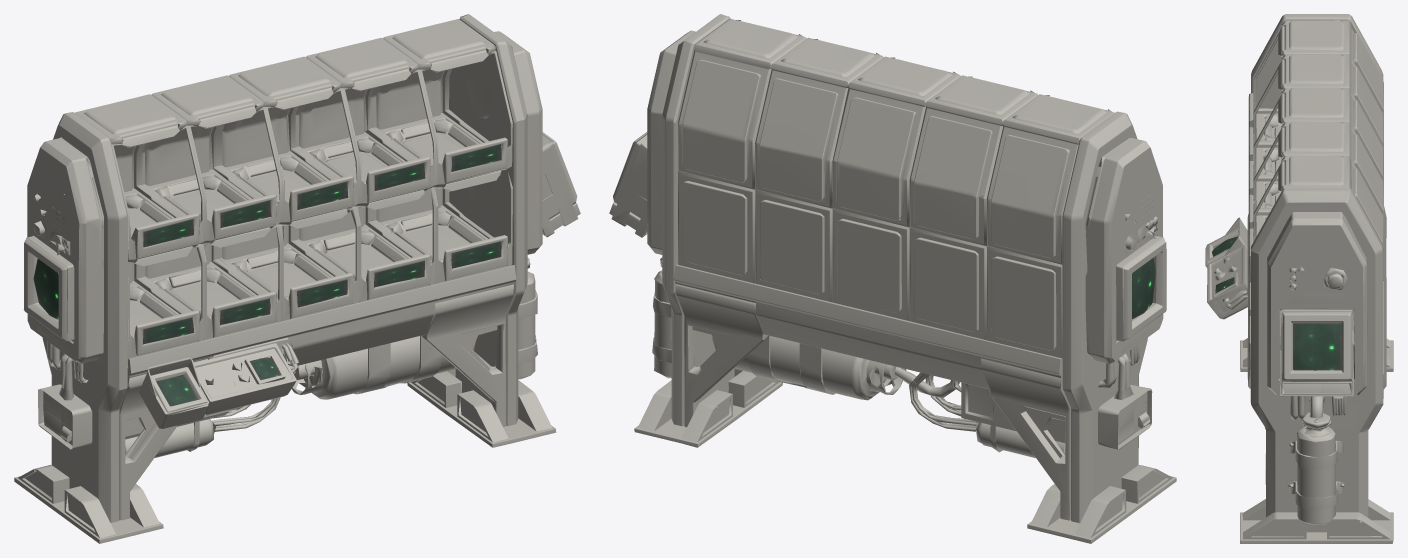
Rendered from EggIncubator_C.glb.
3 views of the same model, side by side, from view 1: azimuth 30°, elevation 25°; view 2: azimuth 150°, elevation 25°; view 3: azimuth 270°, elevation 25° (orthographic). The views are drawn at different scales.
Visible parts, largest first — view 1: SM_EggIncubator; view 2: SM_EggIncubator; view 3: SM_EggIncubator.
Part boxes in pixels (x1,y1,x2,y2): SM_EggIncubator: (14, 14, 580, 543); SM_EggIncubator: (609, 14, 1176, 543); SM_EggIncubator: (1205, 14, 1393, 543).
Bounding box in the file's own units: 3.55 × 2.5 × 1.24.
Materials: 2 (2 with a texture image).
